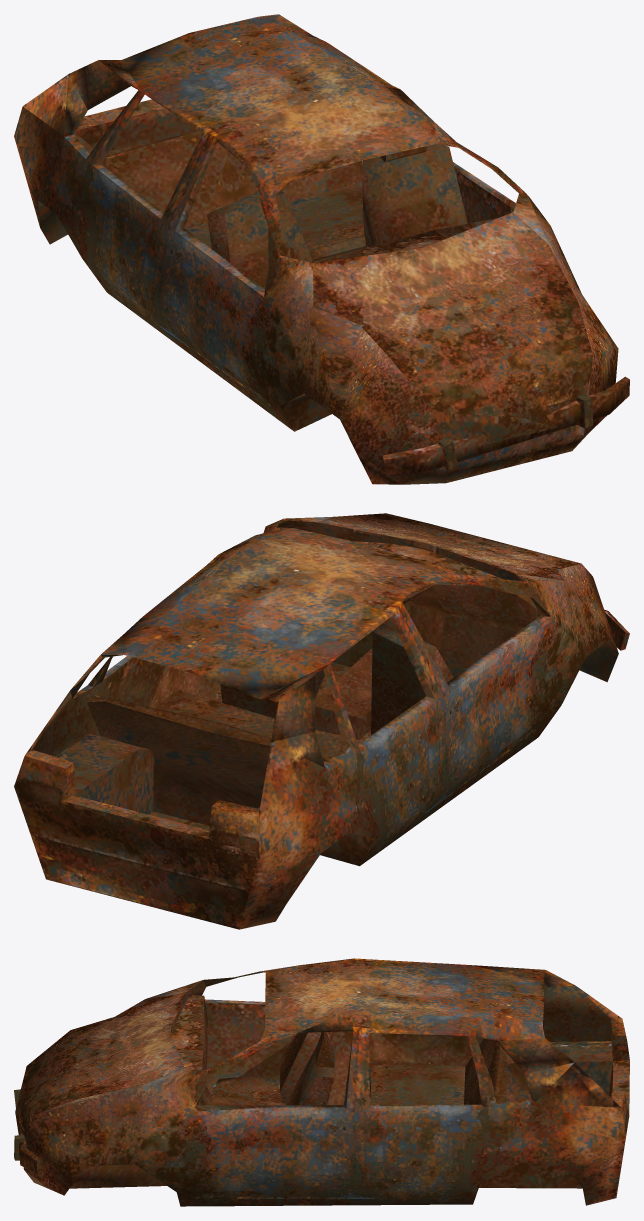
The model's file is Prop_Wj033_lod1.glb.
3 views of the same model, one above another, from view 1: azimuth 30°, elevation 25°; view 2: azimuth 150°, elevation 25°; view 3: azimuth 270°, elevation 25° (orthographic). The views are drawn at different scales.
Visible parts, largest first — view 1: xiutz_wj033_lod1; view 2: xiutz_wj033_lod1; view 3: xiutz_wj033_lod1.
Boxes of the visible parts, x1=… form: xiutz_wj033_lod1: x1=14, y1=14, x2=629, y2=484; xiutz_wj033_lod1: x1=14, y1=513, x2=629, y2=929; xiutz_wj033_lod1: x1=14, y1=958, x2=629, y2=1206.
Bounding box in the file's own units: 2.32 × 1.68 × 5.25.
1 material, 1 textured.
